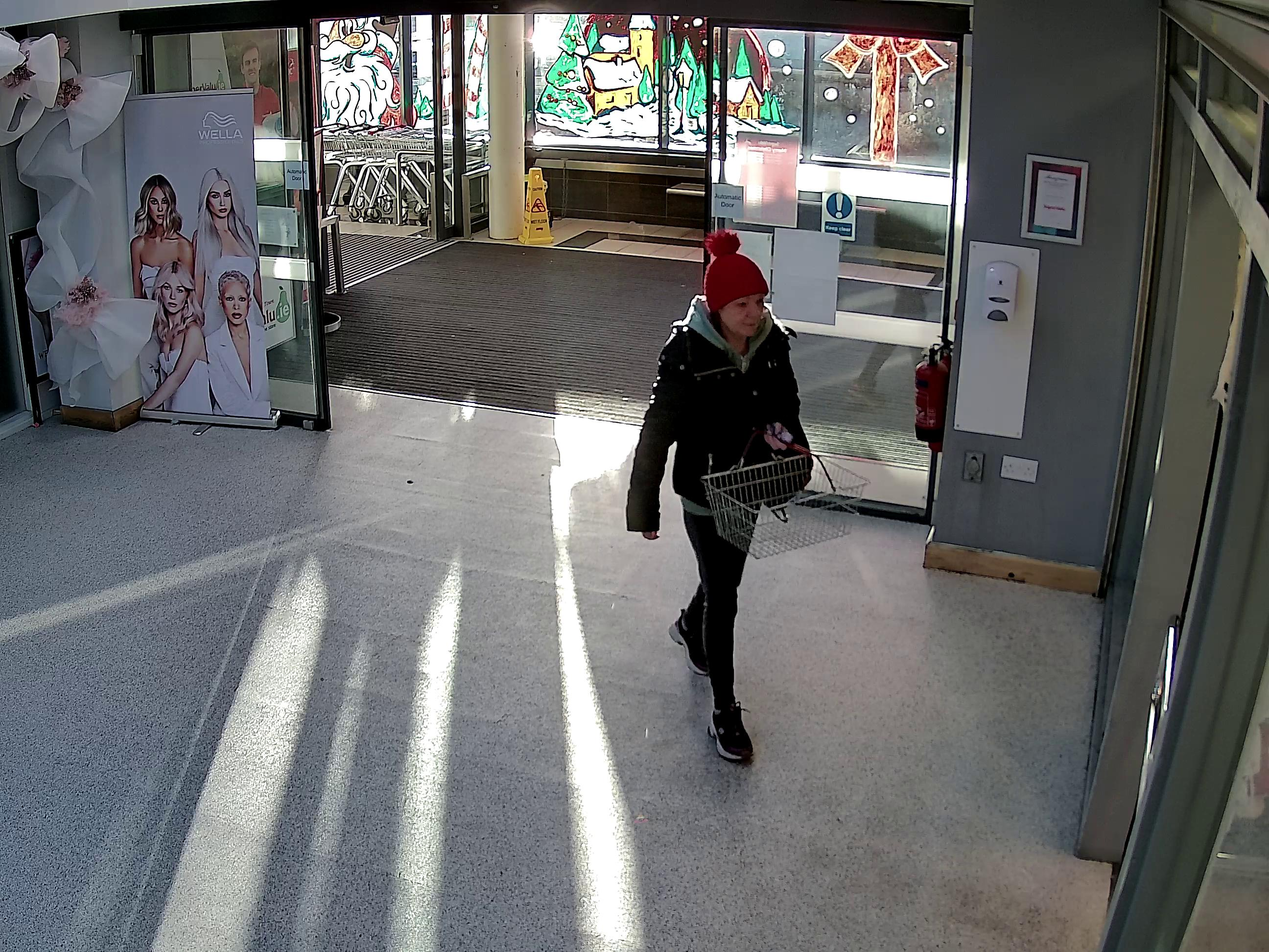empty-basket: (703, 449, 870, 559)
person: (629, 230, 810, 765)
person-with-empty-basket-trolly: (630, 227, 870, 772)
